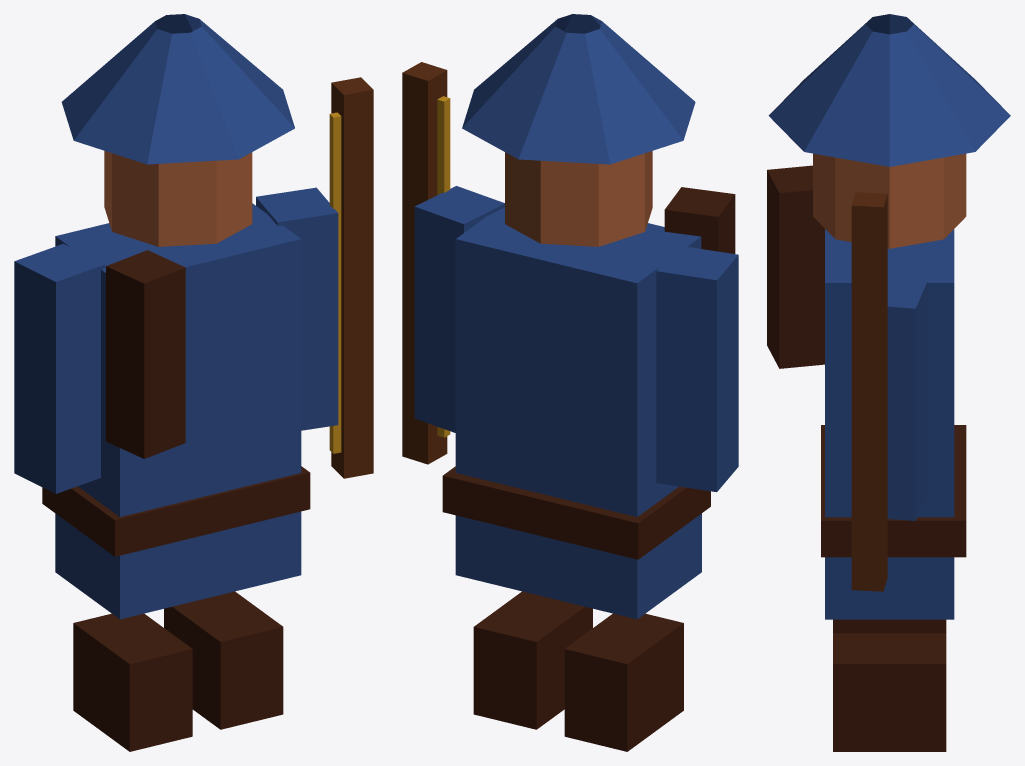
Rendered from Archer_authoring.obj.
3 views of the same model, side by side, from view 1: azimuth 30°, elevation 25°; view 2: azimuth 150°, elevation 25°; view 3: azimuth 270°, elevation 25° (orthographic).
Parts seen in each view (by area): view 1: Tunic, Hood, Arm_L, Quiver, Boots, Bow, Head, Boots_R, Belt, Arm_R, Bowstring; view 2: Tunic, Hood, Arm_L, Boots, Boots_R, Head, Belt, Arm_R, Bow, Quiver, Bowstring; view 3: Tunic, Hood, Bow, Boots_R, Quiver, Head, Arm_R, Belt, Boots.
Part boxes in pixels (x1,y1,x2,y2): Tunic: (55,203,301,619); Hood: (61,14,294,164); Arm_L: (14,243,105,493); Quiver: (106,250,185,458); Boots: (73,613,192,751); Bow: (331,77,373,478); Head: (104,151,252,246); Boots_R: (164,591,283,729); Belt: (42,466,310,556); Arm_R: (256,187,338,430); Bowstring: (329,112,341,453); Tunic: (455,207,701,619); Hood: (462,14,695,164); Arm_L: (656,245,738,492); Boots: (564,613,683,751); Boots_R: (473,591,592,729); Head: (505,151,652,246); Belt: (442,466,710,559); Arm_R: (414,186,504,432); Bow: (402,62,447,464); Quiver: (664,187,735,253); Bowstring: (437,96,450,437); Tunic: (825,229,954,619); Hood: (768,14,1010,166); Bow: (851,192,887,591); Boots_R: (833,633,946,751); Quiver: (767,165,824,368); Head: (813,153,966,248); Arm_R: (887,279,927,520); Belt: (821,425,966,557); Boots: (833,619,946,633).
Size of the model in its own units: 0.9475 by 1.88 by 0.6036.
